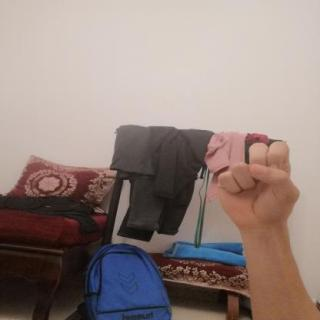QAAF: (205, 134, 311, 233)
